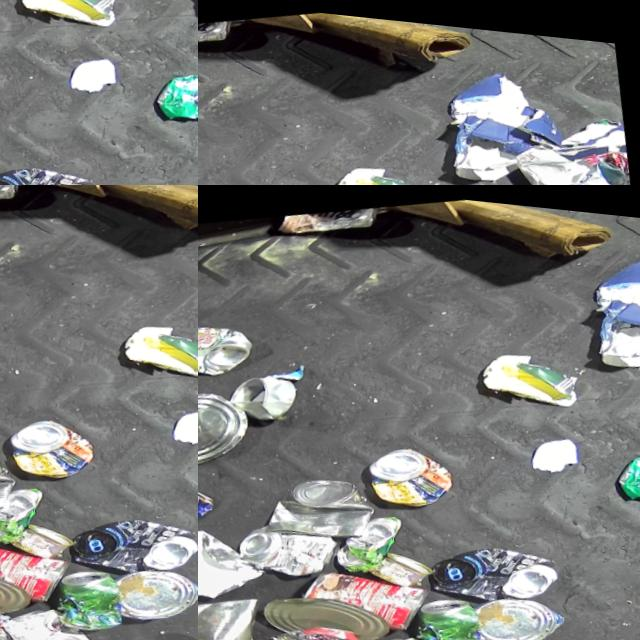can: (301, 548, 443, 640), (432, 523, 570, 611), (261, 462, 387, 553), (73, 495, 198, 583), (239, 509, 349, 587), (266, 576, 400, 640), (0, 520, 84, 618), (8, 404, 105, 485), (367, 432, 464, 513), (198, 379, 262, 479), (478, 578, 577, 640), (57, 555, 135, 630), (334, 504, 416, 575), (119, 550, 198, 623), (275, 195, 380, 243), (4, 591, 104, 640), (198, 313, 261, 389), (226, 366, 303, 428), (0, 143, 108, 185), (415, 583, 494, 640), (198, 587, 277, 640), (215, 612, 359, 640), (0, 476, 57, 546), (13, 509, 83, 562), (372, 537, 442, 590), (0, 548, 41, 628), (154, 48, 198, 120), (0, 433, 27, 524), (198, 477, 229, 548), (363, 619, 463, 640), (616, 428, 640, 500), (198, 8, 234, 55)
